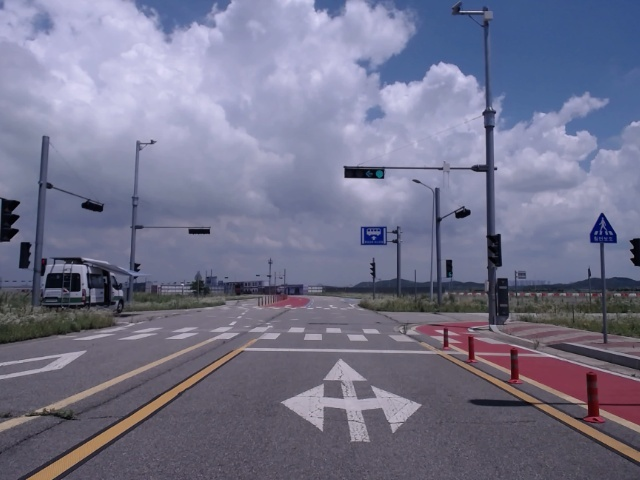all_green_4: (344, 166, 383, 177)
